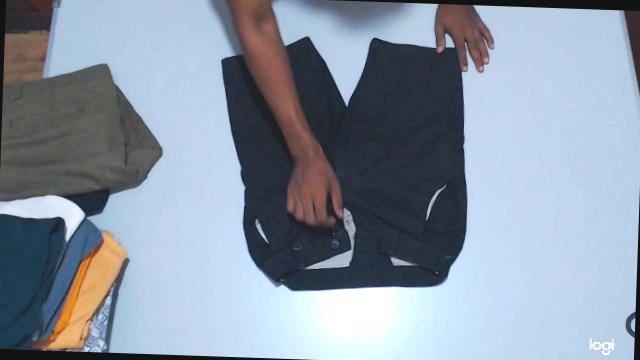new-garment: (222, 37, 467, 290)
